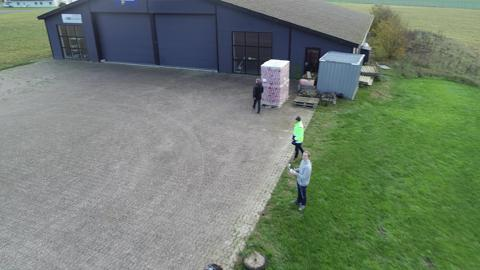RockwoolPallet: (261, 58, 291, 108)
